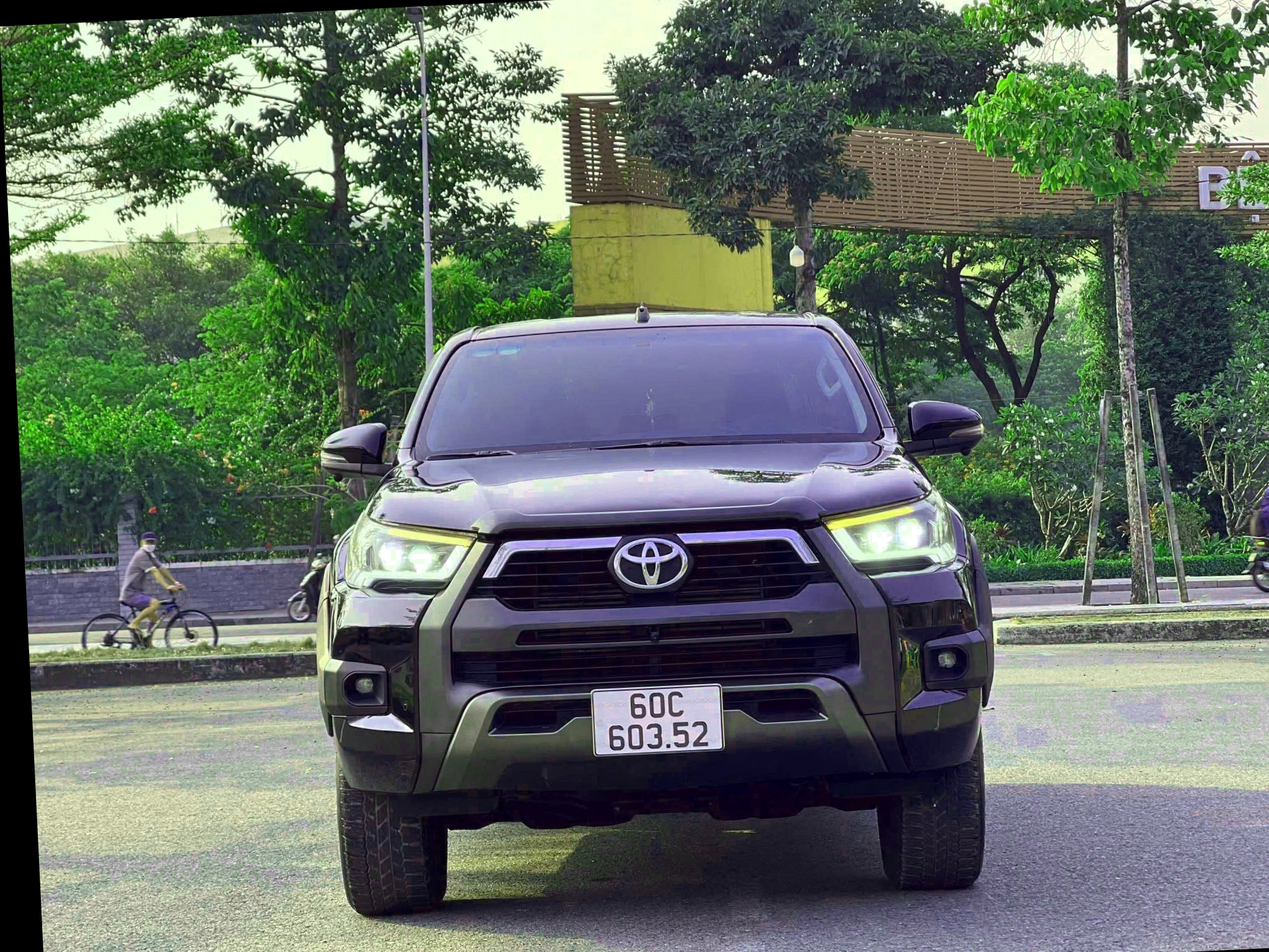Bien-so: (578, 639, 720, 724)
